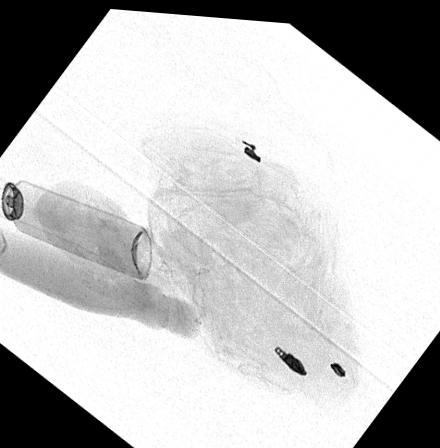Sprayer: (0, 177, 151, 276)
